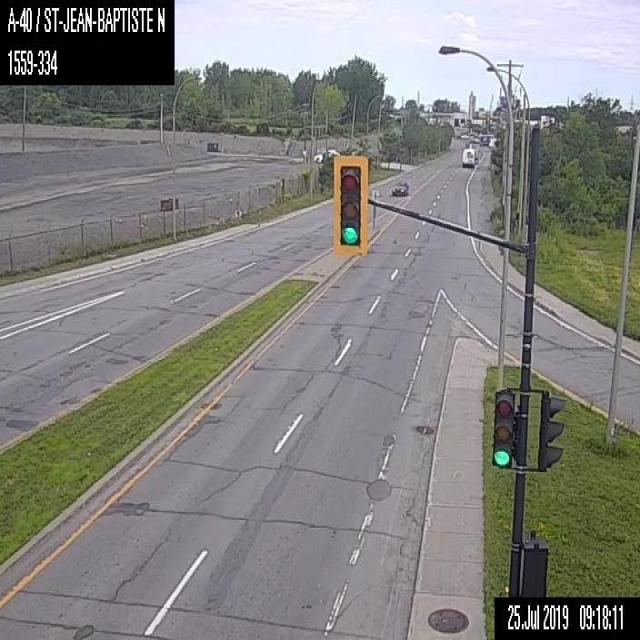bus: (462, 148, 475, 166)
vehicle: (314, 148, 337, 162), (391, 180, 409, 196)
